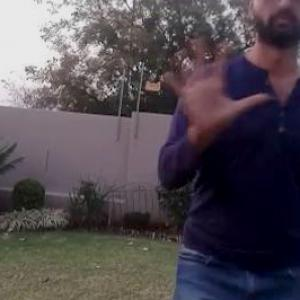follow_hand: (161, 35, 272, 135)
